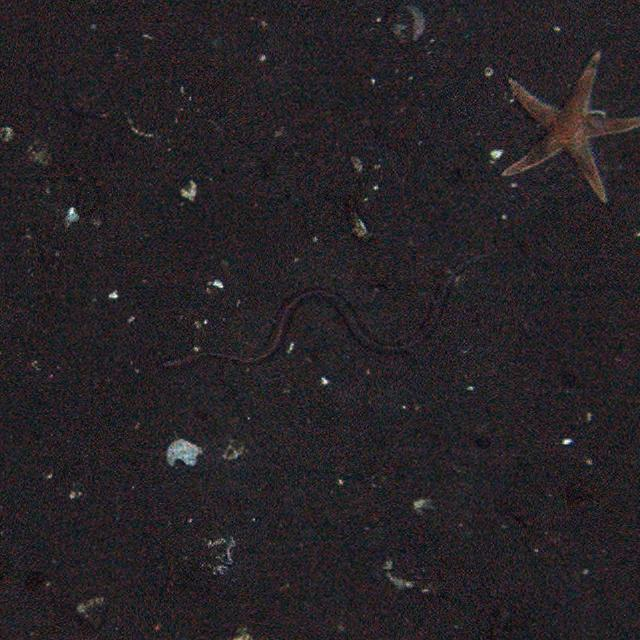eel: (162, 277, 457, 378)
